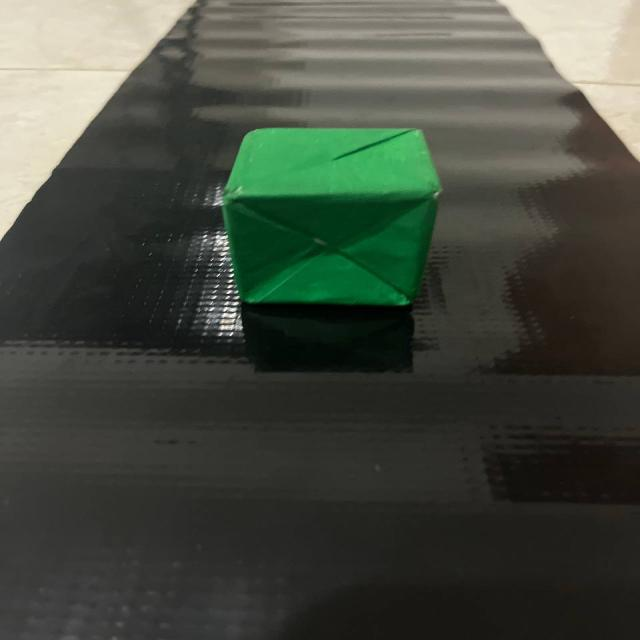Verde: (212, 116, 468, 318)
